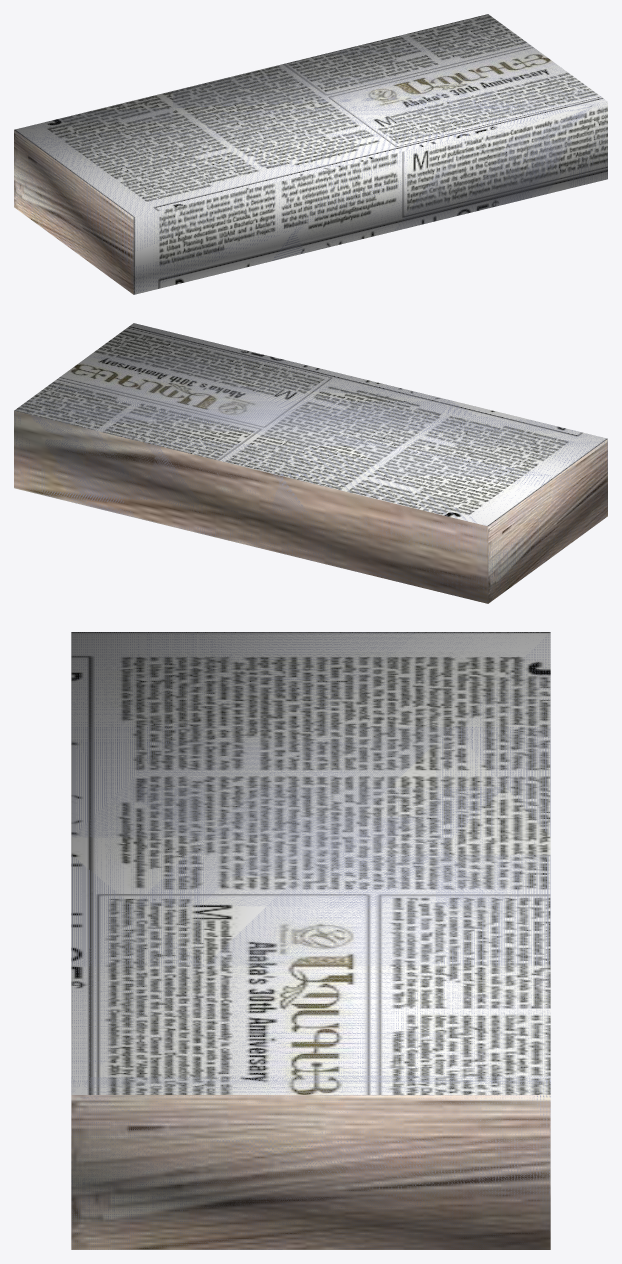
Rendered from jornal.dae.
The picture shows the model from 3 angles, top to bottom: view 1: azimuth 30°, elevation 25°; view 2: azimuth 150°, elevation 25°; view 3: azimuth 270°, elevation 25°; orthographic projection. The views are drawn at different scales.
Parts seen in each view (by area): view 1: SketchUp (×2); view 2: SketchUp (×3); view 3: SketchUp (×2).
Part boxes in pixels (x1=…): SketchUp (×2): x1=14, y1=14, x2=607, y2=294; SketchUp (×3): x1=14, y1=323, x2=607, y2=603; SketchUp (×2): x1=71, y1=632, x2=550, y2=1249.
Size of the model in its own units: 16 by 7 by 2.5.
